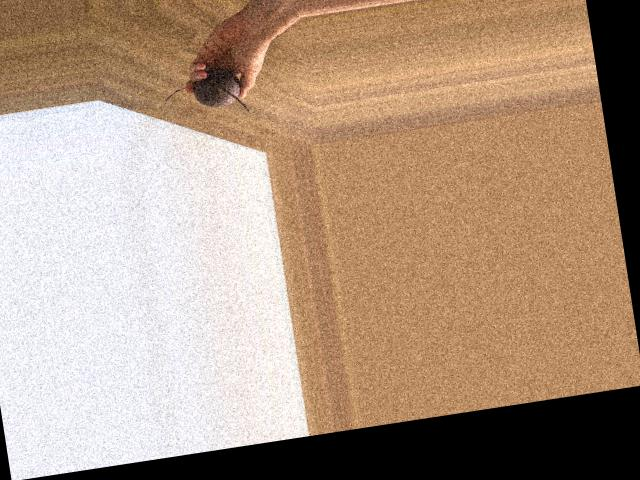beet: (161, 65, 248, 122)
